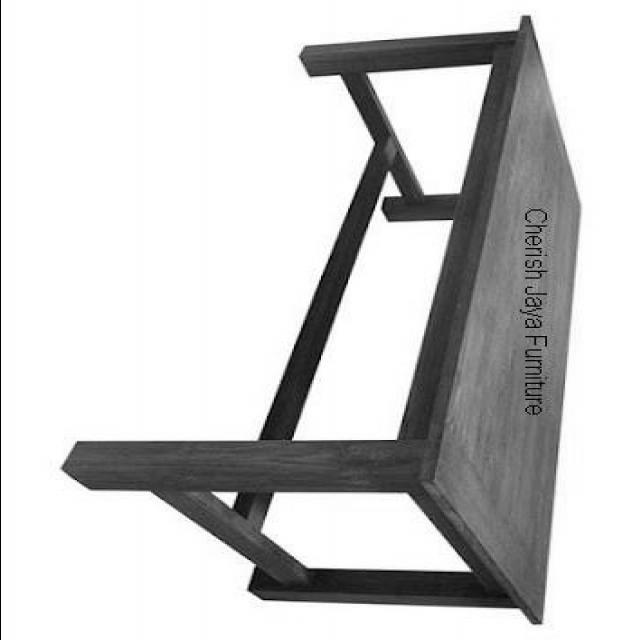table: (59, 14, 586, 626)
